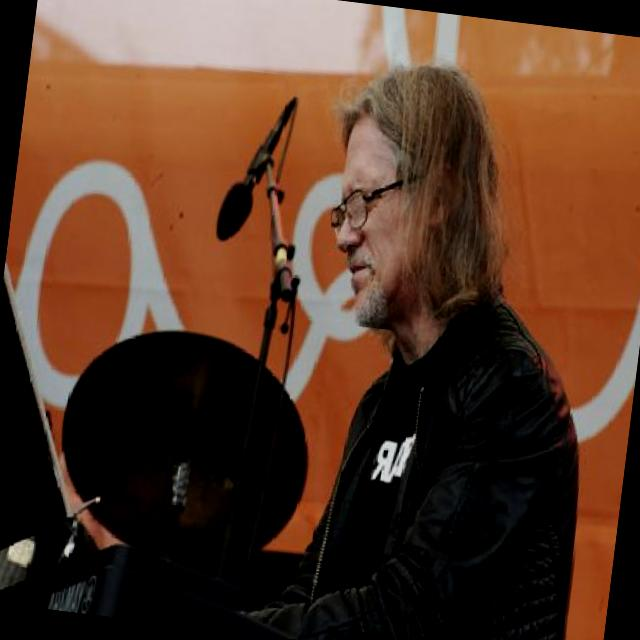Person: (220, 47, 635, 640)
